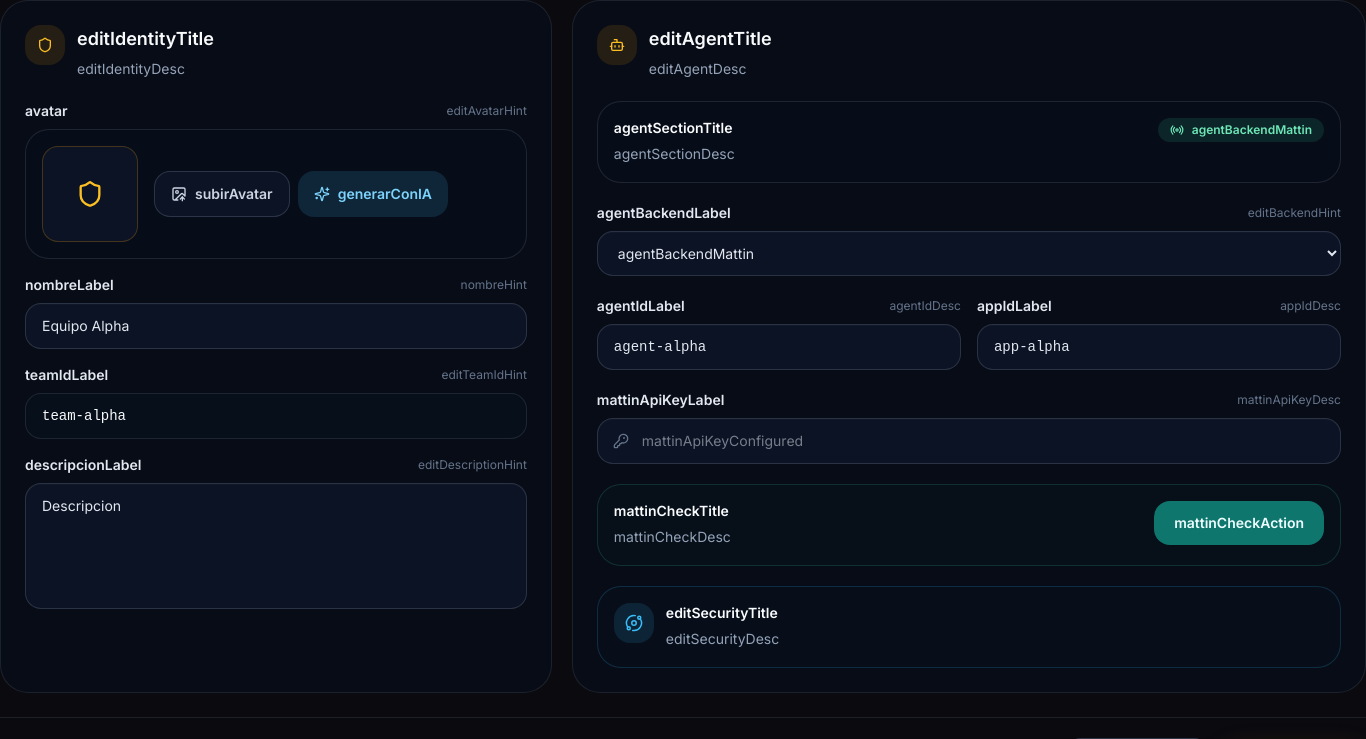
Scenario: team forms UI › owner edit form follows the same mattin/local logic as admin edit
Expected: the field with placeholder "agentIdPlaceholder" below "agentIdLabel" is shown, [597,324,961,370]
Expected: the field with placeholder "appIdPlaceholder" below "appIdLabel" is shown, [977,324,1341,370]
Select "agentBackendLocal" in the dropdown: {"x": 969, "y": 254} [597,231,1341,276]
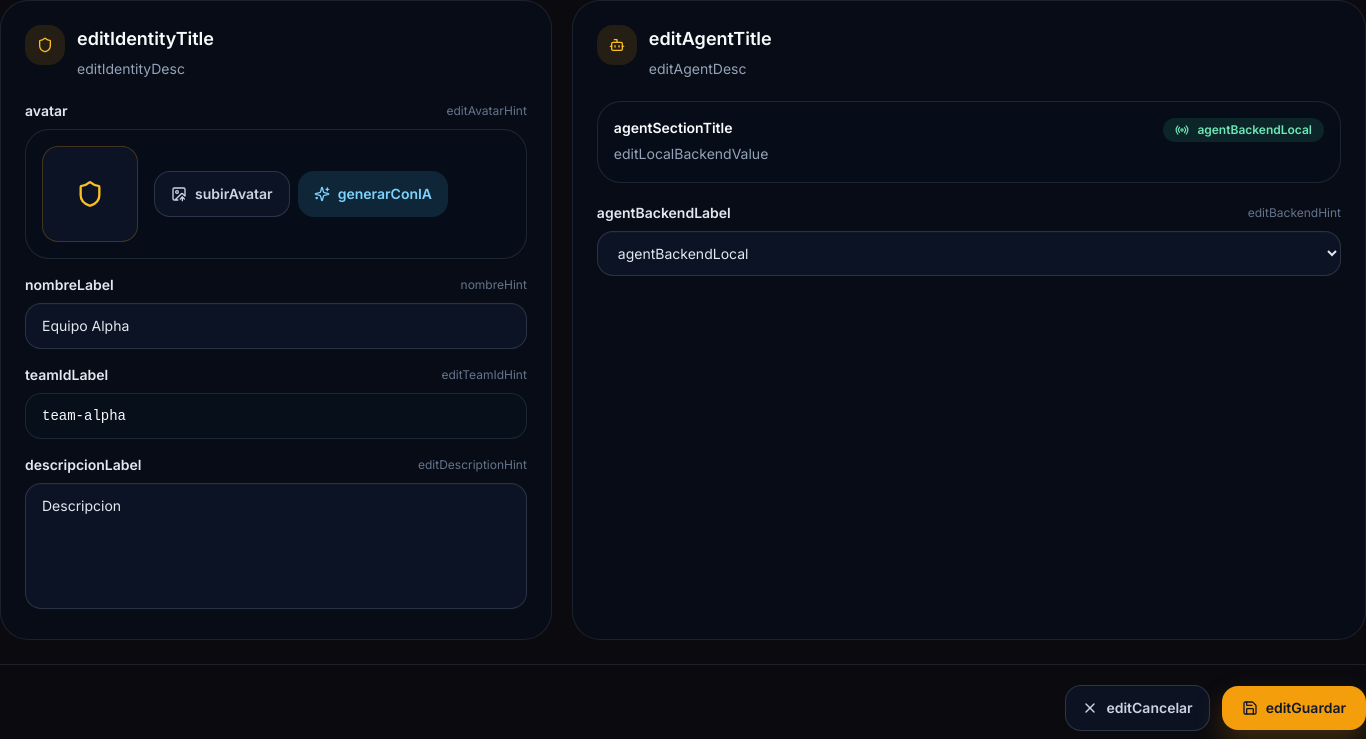
Expected: the field with placeholder "agentIdPlaceholder" is gone
Expected: the field with placeholder "appIdPlaceholder" is gone
Expected: the password field with placeholder "mattinApiKeyConfigured" is gone
Select "agentBackendMattin" in the dropdown: {"x": 969, "y": 254} [597,231,1341,276]
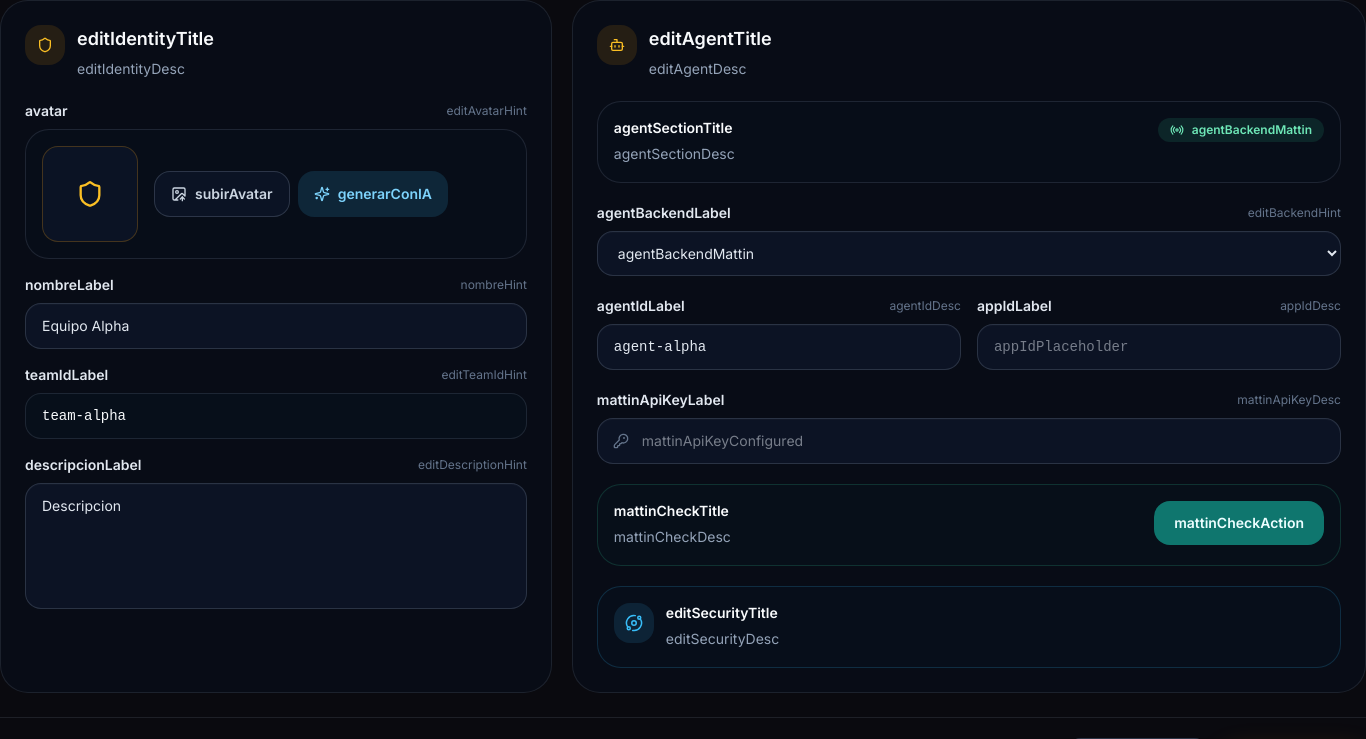
Expected: the field with placeholder "agentIdPlaceholder" below "agentIdLabel" is shown, [597,324,961,370]
Expected: the field with placeholder "appIdPlaceholder" is shown, [977,324,1341,370]
Expected: the password field with placeholder "mattinApiKeyConfigured" is shown, [597,418,1341,464]
